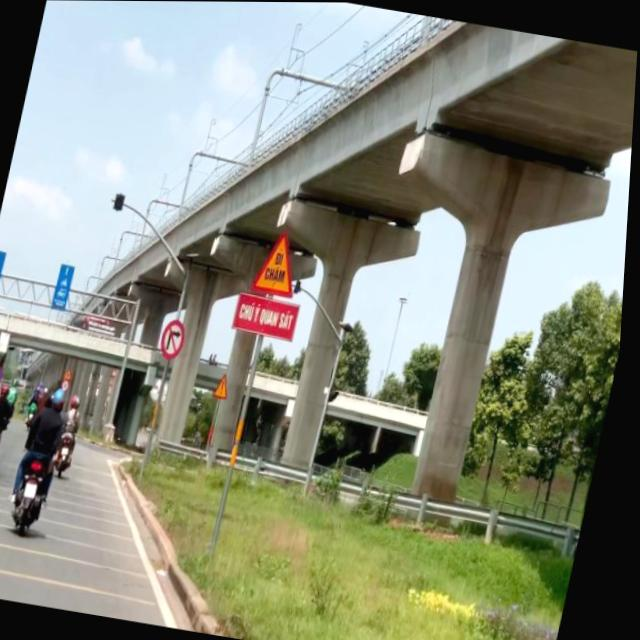Cam re phai: (162, 317, 192, 362)
Di cham: (250, 222, 312, 301)
